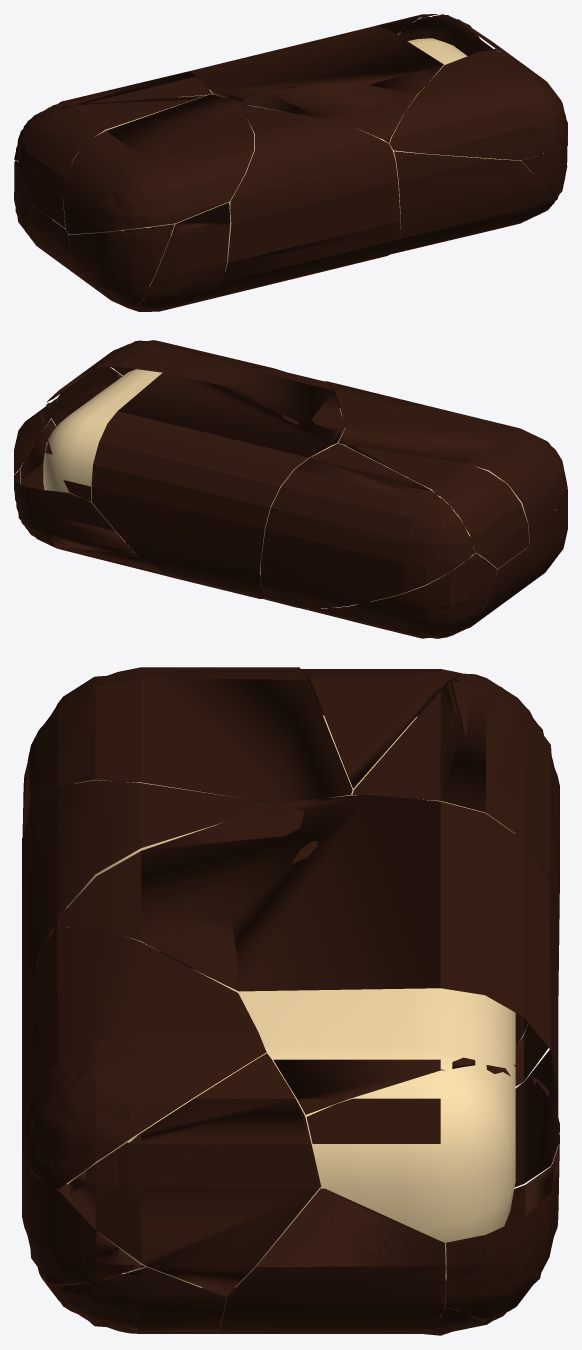
File: Interactive_Chocolate_Capsule_TimelineFixed.fbx
The picture shows the model from 3 angles, top to bottom: view 1: azimuth 30°, elevation 25°; view 2: azimuth 150°, elevation 25°; view 3: azimuth 270°, elevation 25°; orthographic projection. The views are drawn at different scales.
Visible parts, largest first — view 1: CrackPiece_08, CrackPiece_03, CrackPiece_16, CrackPiece_06, CrackPiece_01, CrackPiece_09, CrackPiece_12, CrackPiece_14, CrackPiece_13, CrackPiece_17, Cream_Inside, CrackPiece_02 (+3 smaller); view 2: CrackPiece_16, CrackPiece_13, CrackPiece_03, CrackPiece_09, CrackPiece_04, Cream_Inside, CrackPiece_19, CrackPiece_06, CrackPiece_08, CrackPiece_02, CrackPiece_20, CrackPiece_14 (+4 smaller); view 3: CrackPiece_16, Cream_Inside, CrackPiece_06, CrackPiece_20, CrackPiece_03, CrackPiece_15, CrackPiece_13, CrackPiece_08, CrackPiece_09, CrackPiece_19, CrackPiece_11, CrackPiece_07 (+5 smaller).
Boxes of the visible parts, x1,y1,x2,y2 form: CrackPiece_08: [200, 104, 400, 301]; CrackPiece_03: [63, 94, 254, 234]; CrackPiece_16: [189, 25, 443, 143]; CrackPiece_06: [389, 49, 566, 160]; CrackPiece_01: [391, 151, 553, 254]; CrackPiece_09: [18, 95, 205, 227]; CrackPiece_12: [127, 202, 230, 311]; CrackPiece_14: [69, 224, 174, 308]; CrackPiece_13: [14, 71, 212, 161]; CrackPiece_17: [398, 14, 495, 55]; Cream_Inside: [52, 38, 532, 286]; CrackPiece_02: [27, 206, 86, 282]; CrackPiece_16: [91, 367, 345, 598]; CrackPiece_13: [260, 443, 475, 609]; CrackPiece_03: [338, 405, 567, 546]; CrackPiece_09: [344, 445, 529, 568]; CrackPiece_04: [302, 553, 497, 638]; Cream_Inside: [43, 369, 529, 601]; CrackPiece_19: [14, 469, 133, 551]; CrackPiece_06: [98, 340, 283, 375]; CrackPiece_08: [260, 381, 423, 608]; CrackPiece_02: [294, 546, 533, 637]; CrackPiece_20: [51, 361, 122, 426]; CrackPiece_14: [522, 477, 567, 589]; CrackPiece_16: [52, 795, 558, 1187]; Cream_Inside: [66, 715, 515, 1287]; CrackPiece_06: [22, 926, 266, 1189]; CrackPiece_20: [60, 1053, 321, 1296]; CrackPiece_03: [27, 667, 352, 803]; CrackPiece_15: [219, 1188, 445, 1333]; CrackPiece_13: [352, 673, 559, 1086]; CrackPiece_08: [22, 780, 278, 1073]; CrackPiece_09: [301, 669, 462, 788]; CrackPiece_19: [445, 1123, 559, 1319]; CrackPiece_11: [47, 1267, 226, 1330]; CrackPiece_07: [23, 1157, 144, 1284].
Size of the model in its own units: 2.01 by 0.606 by 1.01.
